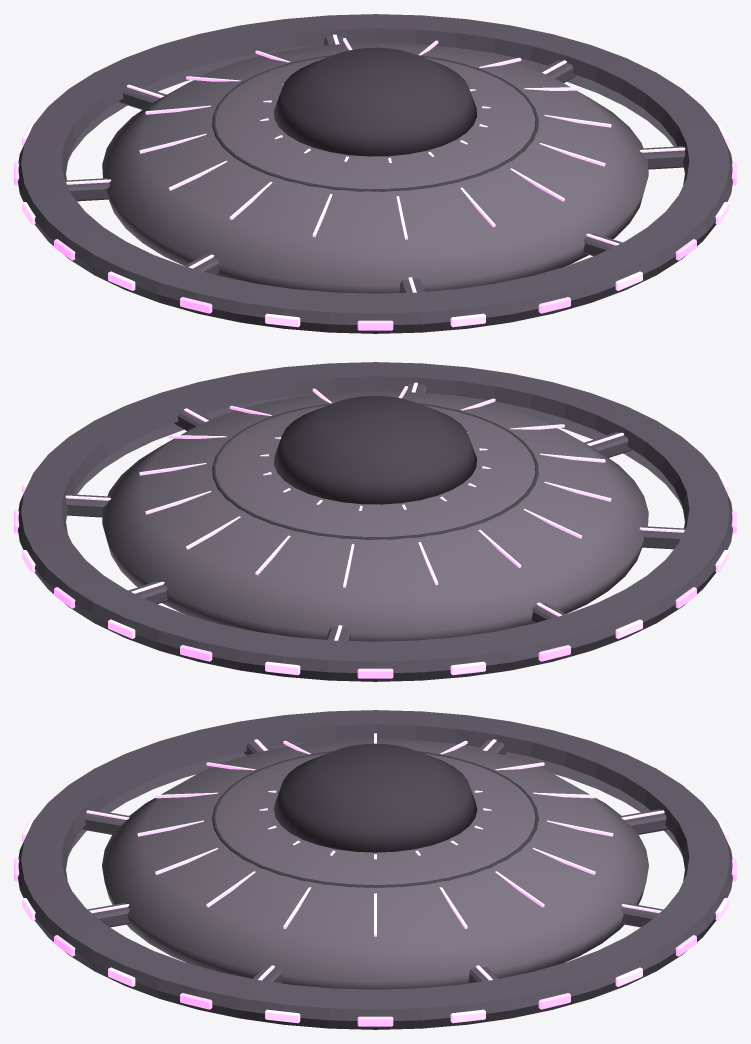
The model's file is ufo_raider.glb.
3 renders of one model, top to bottom at view 1: azimuth 30°, elevation 25°; view 2: azimuth 150°, elevation 25°; view 3: azimuth 270°, elevation 25°, orthographic.
Visible parts, largest first — view 1: Lod_raider; view 2: Lod_raider; view 3: Lod_raider.
Boxes of the visible parts, x1,y1,x2,y2 form: Lod_raider: (14,14,736,333); Lod_raider: (14,362,736,681); Lod_raider: (14,710,736,1029).
Size of the model in its own units: 16.12 by 4.4 by 16.12.
